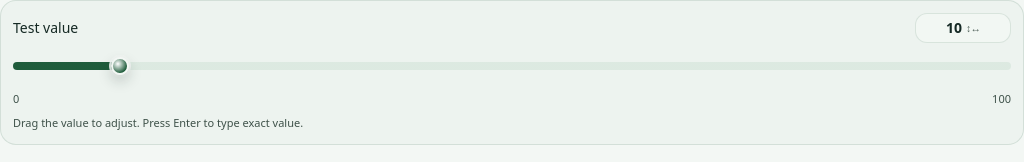
Scenario: NumericSliderField › supports horizontal drag on the value chip
Press the mouse on the number field named "test value" at (963, 28), box [915,13,1011,43]
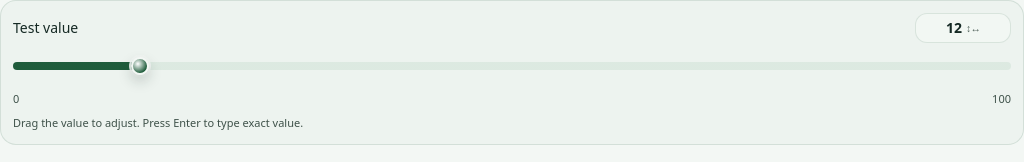
Result: the number field named "test value" has attribute aria-valuenow="12" at [915,13,1011,43]
